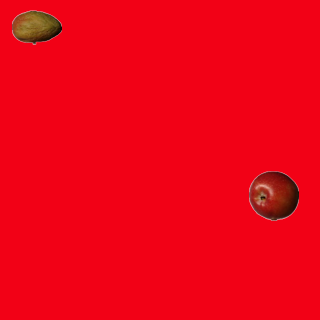Apple Braeburn: (248, 170, 298, 220)
Papaya: (11, 2, 61, 52)
